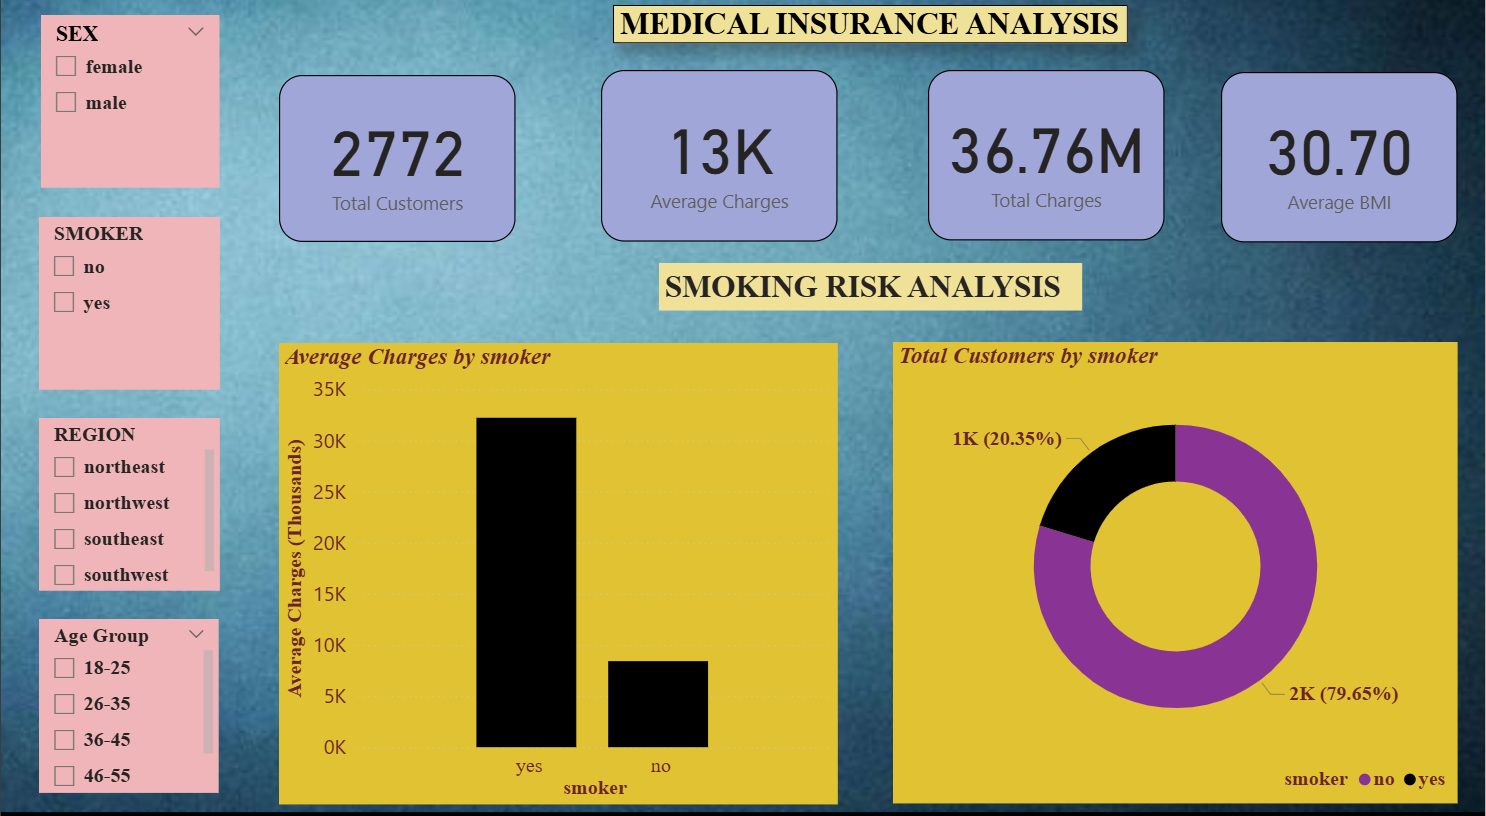

The page's visual inventory and layout, read from the dashboard file:
{"tool":"powerbi","page":{"name":"Page 1","canvas":[1280,720],"ordinal":0},"visuals":[{"type":"textbox","title":"MEDICAL INSURANCE ANALYSIS","box":[527.9,12.9,444.2,32.8],"z":0},{"type":"card","fields":{"Values":["medical_insurance.Total Customers"]},"box":[239.8,73.3,204.4,144],"z":1000},{"type":"card","fields":{"Values":["medical_insurance.Average Charges"]},"box":[517.5,69,204.4,148.4],"z":2000},{"type":"card","fields":{"Values":["medical_insurance.Total Charges"]},"box":[799.6,69,204.4,146.6],"z":3000},{"type":"card","fields":{"Values":["medical_insurance.Average BMI"]},"box":[1052.3,70.7,204.4,146.6],"z":4000},{"type":"clusteredColumnChart","fields":{"Category":["medical_insurance.smoker"],"Y":["medical_insurance.Average Charges"]},"box":[239.8,304.5,482.2,397.6],"z":5000},{"type":"donutChart","fields":{"Y":["medical_insurance.Total Customers"],"Category":["medical_insurance.smoker"]},"box":[769.4,303.6,487.3,398.5],"z":6000},{"type":"textbox","box":[567.5,235.5,364.9,41.4],"z":6001},{"type":"slicer","fields":{"Values":["medical_insurance.sex"]},"box":[34.5,21.6,153.5,149.2],"z":6002},{"type":"slicer","fields":{"Values":["medical_insurance.smoker"]},"box":[32.8,195.8,156.1,149.2],"z":6003},{"type":"slicer","fields":{"Values":["medical_insurance.region"]},"box":[32.8,369.2,156.1,149.2],"z":6004},{"type":"slicer","fields":{"Values":["medical_insurance.Age Group"]},"box":[32.8,542.5,155.3,150.1],"z":6005}]}

Visuals, with their boxes in screenshot pixels (x1, y1, x2, y2), scaled from the page's 1280x720 canvas onto the 1486x816 screenshot:
"MEDICAL INSURANCE ANALYSIS" textbox: select_region(613, 15, 1129, 52)
card - medical_insurance.Total Customers: select_region(278, 83, 516, 246)
card - medical_insurance.Average Charges: select_region(601, 78, 838, 246)
card - medical_insurance.Total Charges: select_region(928, 78, 1166, 244)
card - medical_insurance.Average BMI: select_region(1222, 80, 1459, 246)
clusteredColumnChart - medical_insurance.smoker x medical_insurance.Average Charges: select_region(278, 345, 838, 796)
donutChart - medical_insurance.Total Customers x medical_insurance.smoker: select_region(893, 344, 1459, 796)
textbox: select_region(659, 267, 1082, 314)
slicer - medical_insurance.sex: select_region(40, 24, 218, 194)
slicer - medical_insurance.smoker: select_region(38, 222, 219, 391)
slicer - medical_insurance.region: select_region(38, 418, 219, 588)
slicer - medical_insurance.Age Group: select_region(38, 615, 218, 785)
